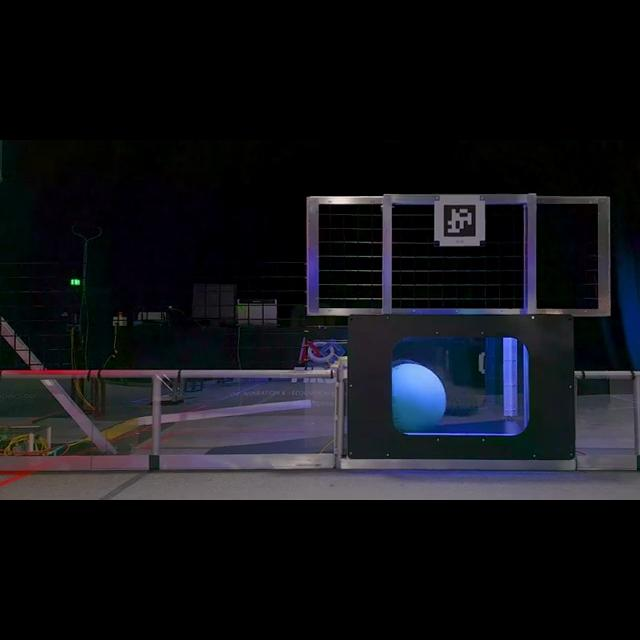ALGAE: (389, 359, 446, 433)
